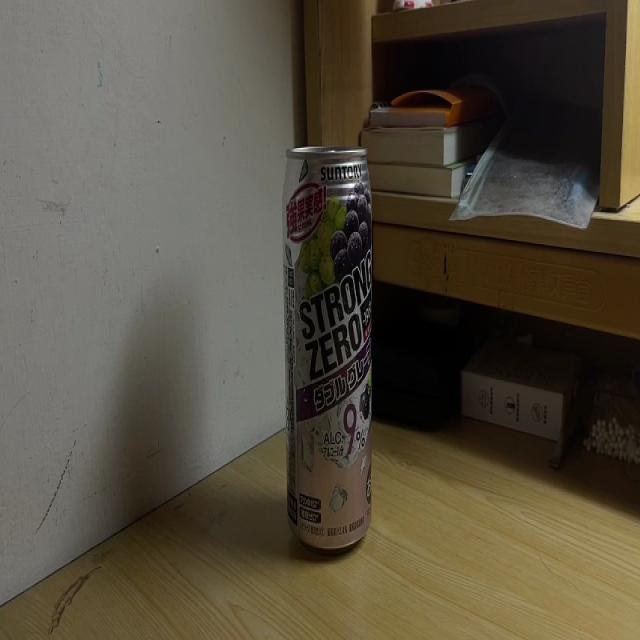Liquor: (282, 140, 373, 554)
